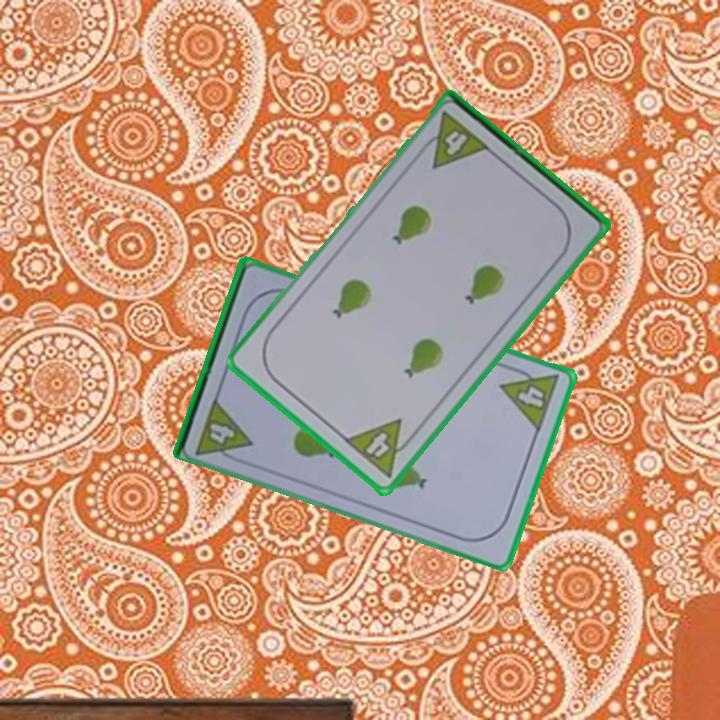4p: (340, 415, 421, 481), (414, 108, 493, 172), (497, 360, 562, 434), (192, 393, 255, 467)
